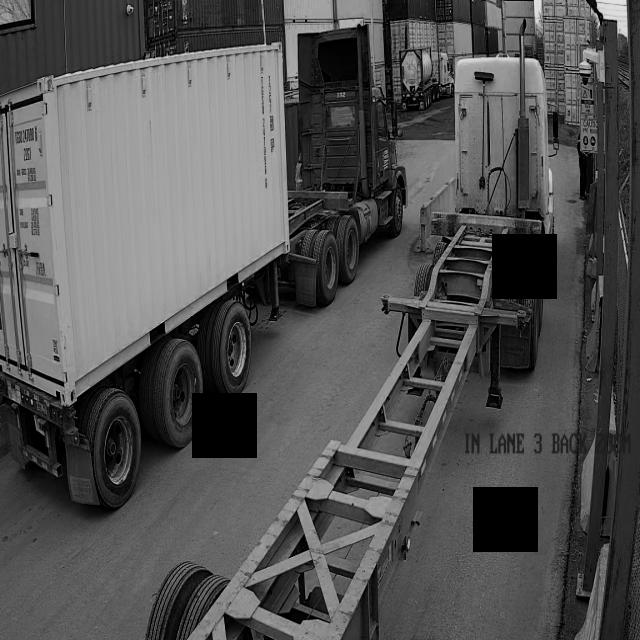company_logo: (376, 142, 392, 180)
container_number: (13, 122, 56, 287), (251, 58, 280, 200)
license_plate: (0, 0, 596, 123), (29, 410, 49, 441)
truck_with_container: (0, 29, 407, 509)
truck_without_container: (183, 56, 555, 640)
